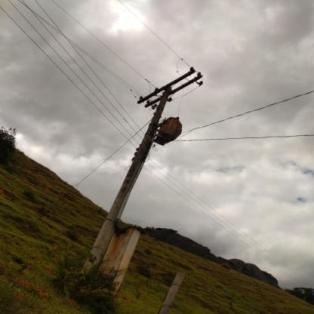Poste: (73, 84, 174, 287)
